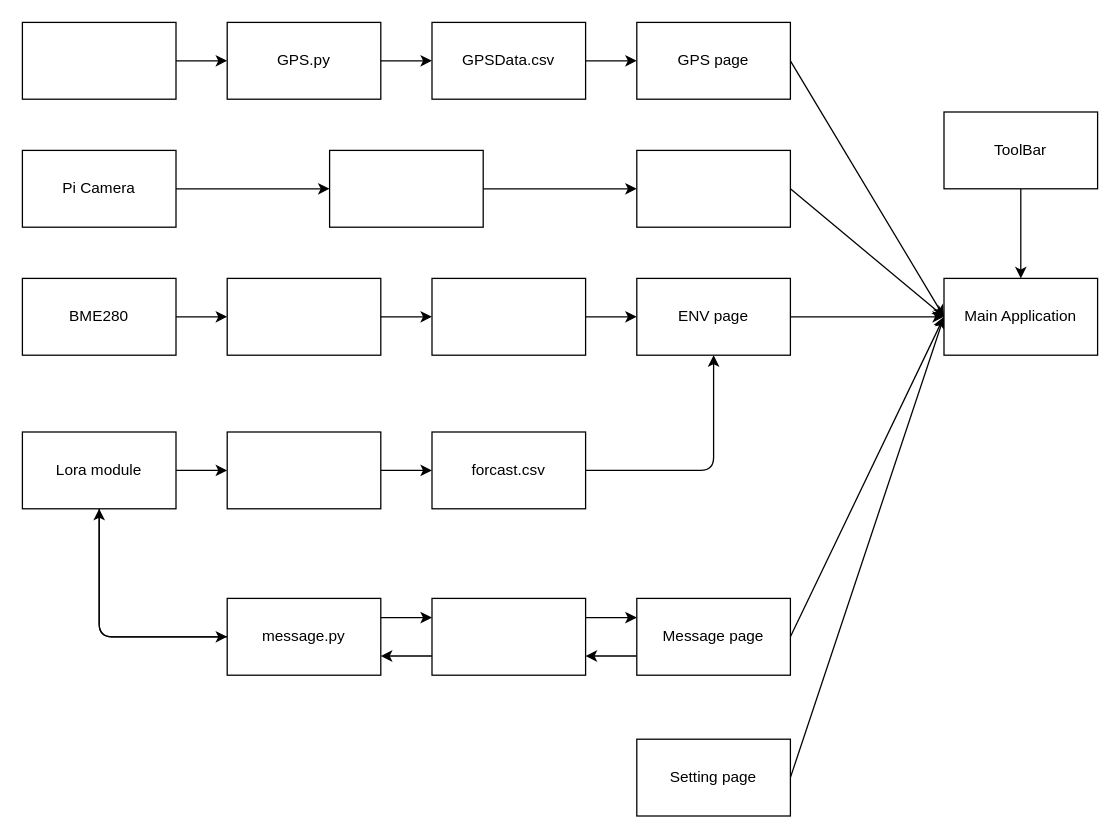
The diagram is 1120 pixels wide and 838 high, and some of its shapes have lost their labels. The shapes that lost their labels are listed below. From the top down, each one's centre as x and y in pixels, then its label:
At point 98,60: "GPS Sensor".
At point 405,188: "Model".
At point 713,188: "Plant page".
At point 303,316: "BME280.py".
At point 508,316: "BME280Data.csv".
At point 303,470: "weather.py".
At point 508,636: "MessageData.csv".
